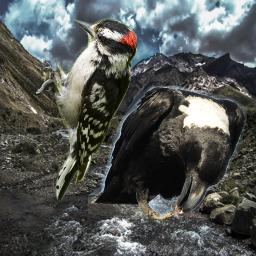Crow: (88, 83, 247, 224)
Woodpecker: (36, 15, 137, 202)
